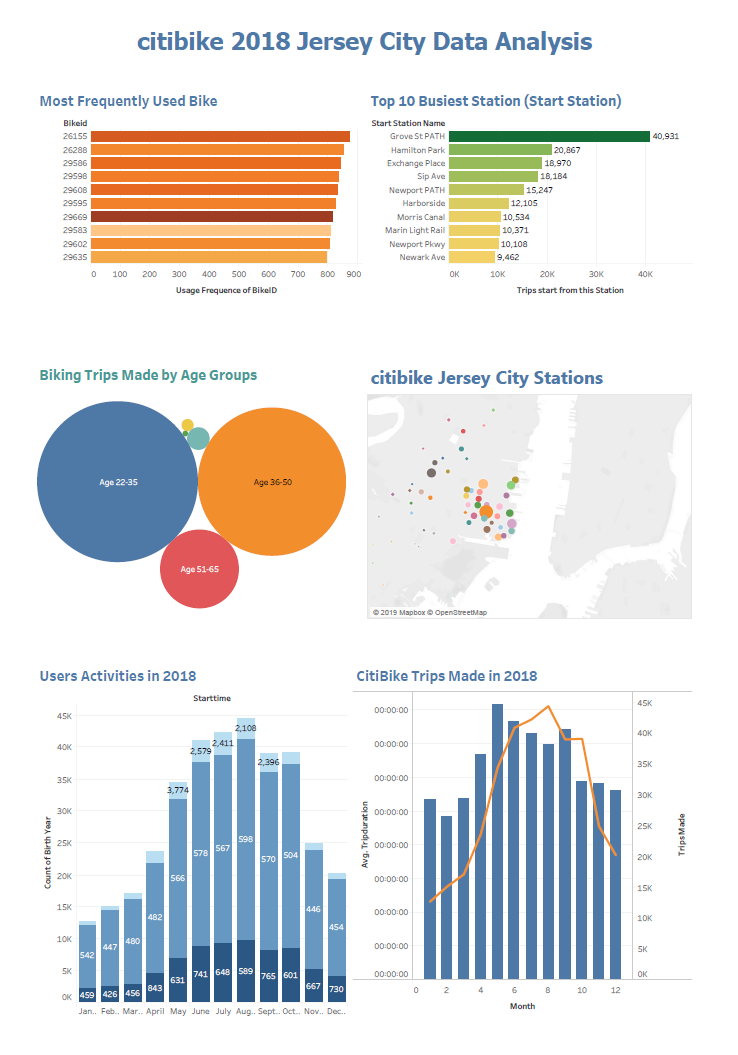

What the dashboard file says about the page in this screenshot:
{"tool":"tableau","page":{"name":"Dashboard","canvas":[1000,1600],"ordinal":0},"visuals":[{"type":"text","box":[8,8,984,127]},{"type":"worksheet","title":"TopUsedBike","mark":"Automatic","rows":["bikeid"],"cols":["bikeid"],"box":[8,135,493,408]},{"type":"worksheet","title":"TopStations","mark":"Automatic","rows":["start station name"],"cols":["start station name"],"box":[501,135,491,408]},{"type":"worksheet","title":"PerAgeGroup","mark":"Circle","box":[8,543,493,394]},{"type":"worksheet","title":"JC Stations","mark":"Automatic","rows":["start station latitude"],"cols":["start station longitude"],"box":[501,543,491,394]},{"type":"worksheet","title":"Users Acitivities","mark":"Bar","rows":["birth year"],"cols":["starttime"],"box":[8,992,472,537]},{"type":"worksheet","title":"TripsCount","mark":"Automatic","rows":["tripduration","bikeid"],"cols":["starttime"],"box":[480,992,512,537]}]}

Visuals, with their boxes on the page's 1000x1600 design canvas (x1, y1, x2, y2). These are canvas units, not pixel positions in the 738x1055 screenshot, which may show the page scaled, cropped or inside an application window:
text: 8,8,992,135
"TopUsedBike" worksheet: 8,135,501,543
"TopStations" worksheet: 501,135,992,543
"PerAgeGroup" worksheet (Circle marks): 8,543,501,937
"JC Stations" worksheet: 501,543,992,937
"Users Acitivities" worksheet (Bar marks): 8,992,480,1529
"TripsCount" worksheet: 480,992,992,1529
